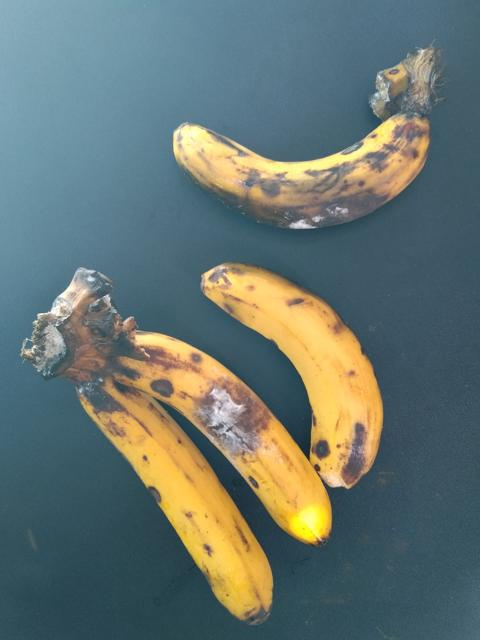overripe: (78, 378, 282, 638), (192, 250, 390, 513), (104, 324, 336, 547)
rotten: (170, 92, 445, 246)
